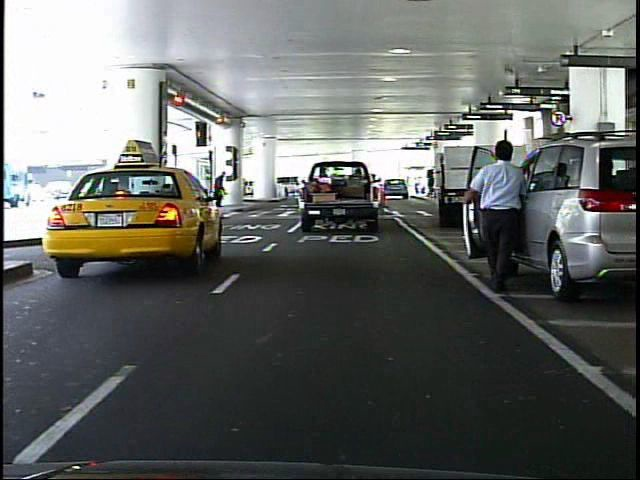person: (461, 130, 530, 294), (211, 166, 230, 209)
